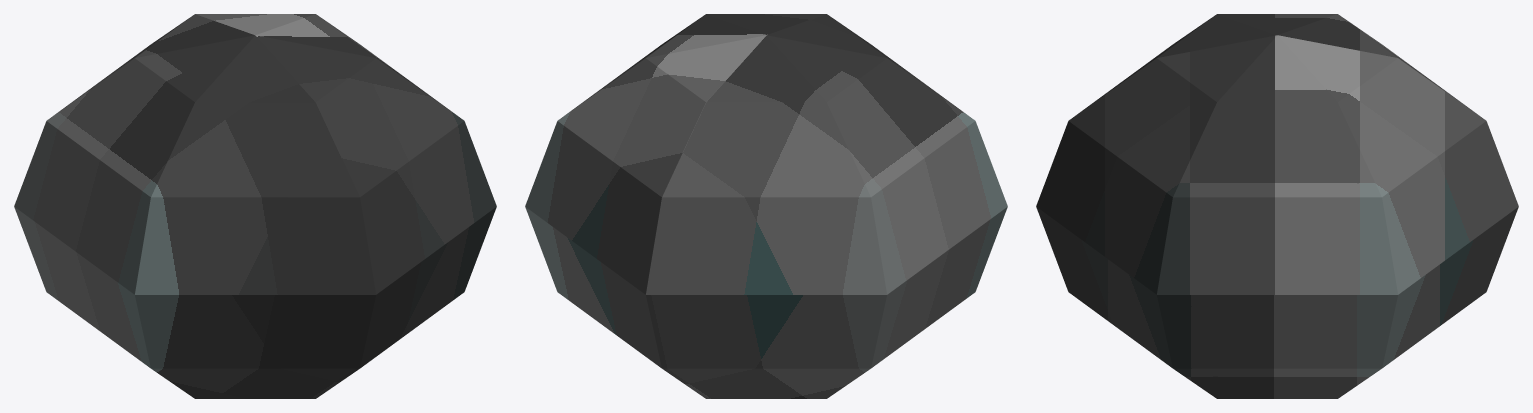
Rendered from cannon_703.gltf.
3 renders of one model, left to right at view 1: azimuth 30°, elevation 25°; view 2: azimuth 150°, elevation 25°; view 3: azimuth 270°, elevation 25°, orthographic.
Parts seen in each view (by area): view 1: cannonball_703; view 2: cannonball_703; view 3: cannonball_703.
Boxes of the visible parts, box(x1,y1,x2,y2) form: cannonball_703: box(14, 14, 496, 398); cannonball_703: box(525, 14, 1007, 398); cannonball_703: box(1036, 14, 1518, 398).
Bounding box in the file's own units: 0.4273 × 0.3862 × 0.4934.
1 material, 1 textured.
